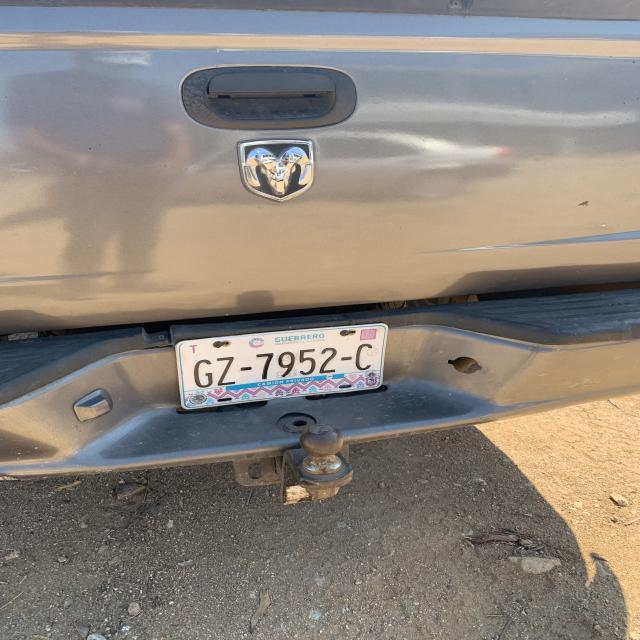placa: (180, 342, 388, 388)
